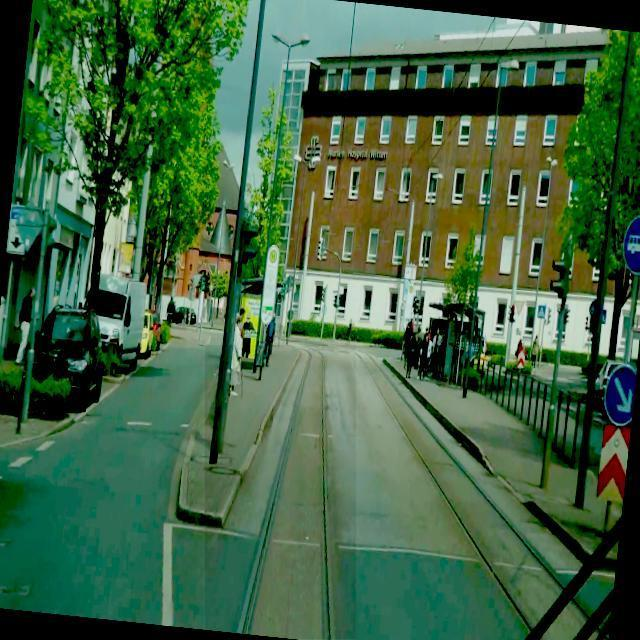rail: (207, 347, 357, 640)
